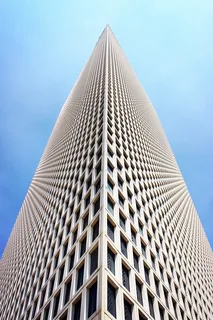high_rise_building: (55, 19, 162, 311)
